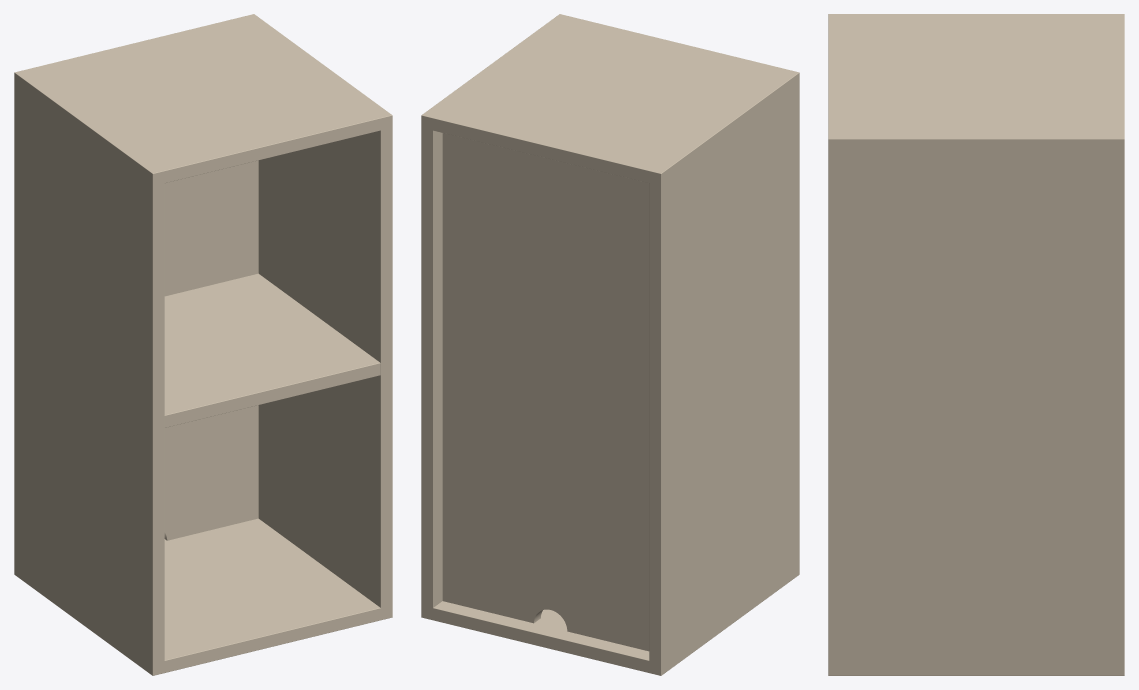
The model's file is MOD-1X2-S-B-AP-AR.glb.
3 views of the same model, side by side, from view 1: azimuth 30°, elevation 25°; view 2: azimuth 150°, elevation 25°; view 3: azimuth 270°, elevation 25° (orthographic). The views are drawn at different scales.
Size of the model in its own units: 360 by 720 by 360.
